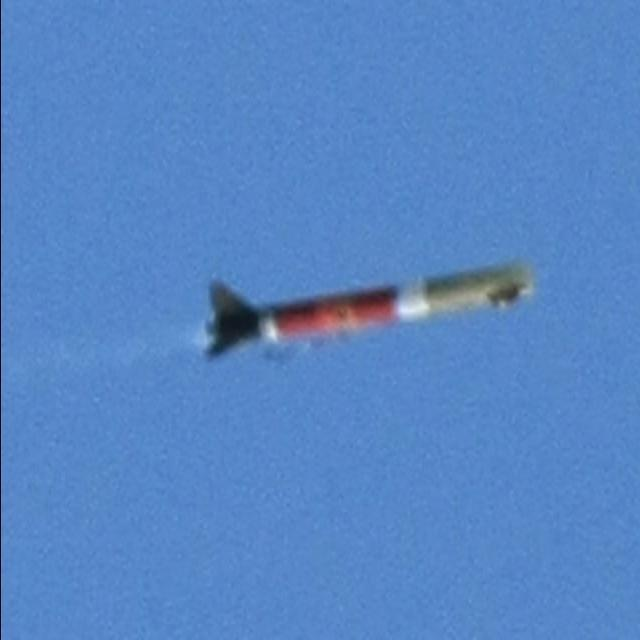missile: (204, 262, 540, 349)
